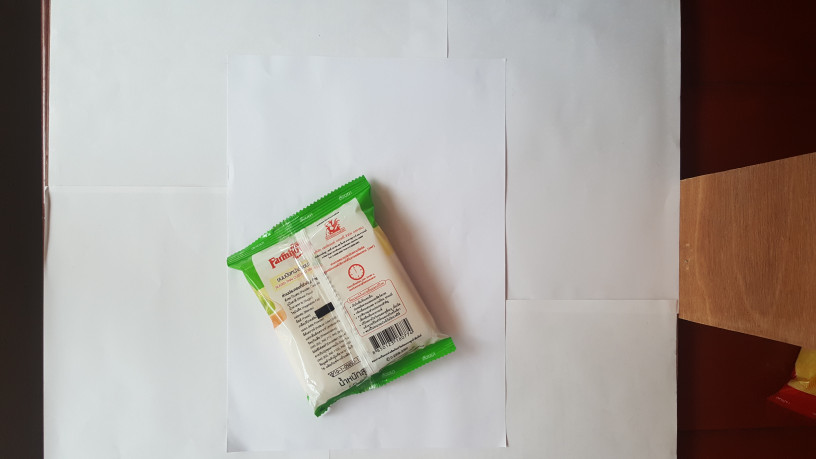farmhouse-bread-pandan: (227, 173, 461, 420)
